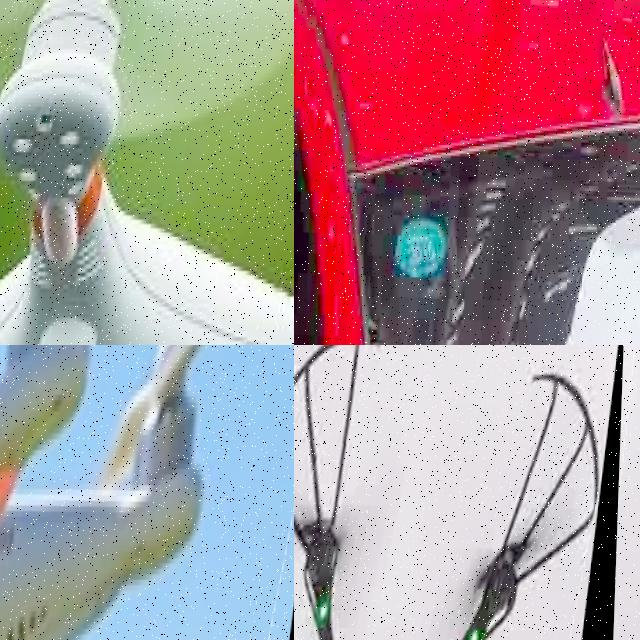drone: (0, 0, 294, 345), (294, 345, 624, 640), (0, 345, 294, 640)
